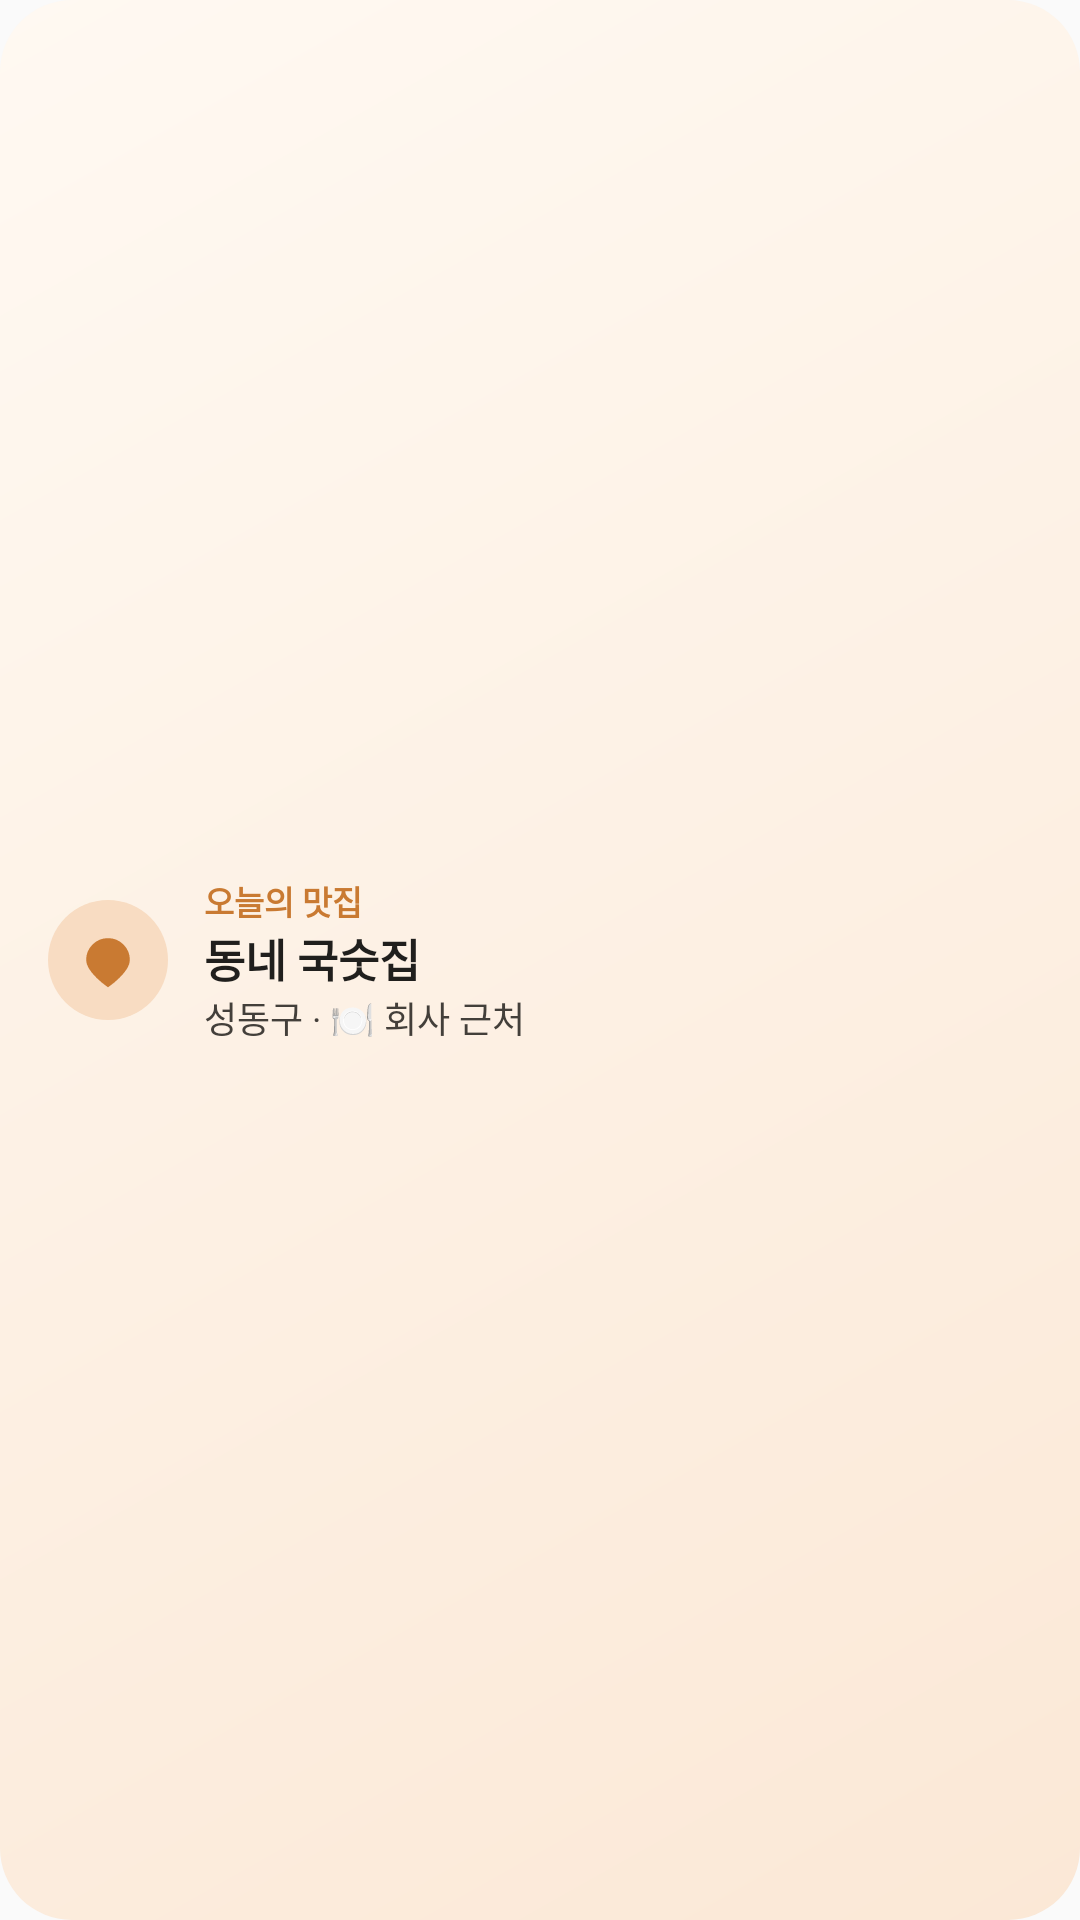

Where to tap for icons on this 1080x1920 app screen, as (x,y):
map pin highlighted: (108,962)
